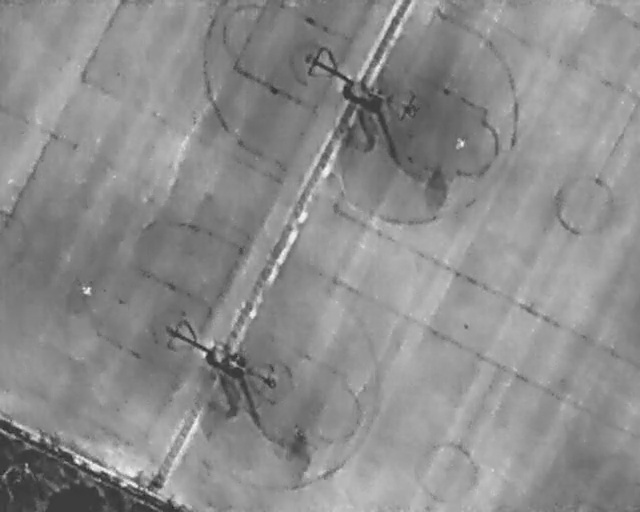Person: (456, 134, 466, 152), (80, 281, 91, 297)
